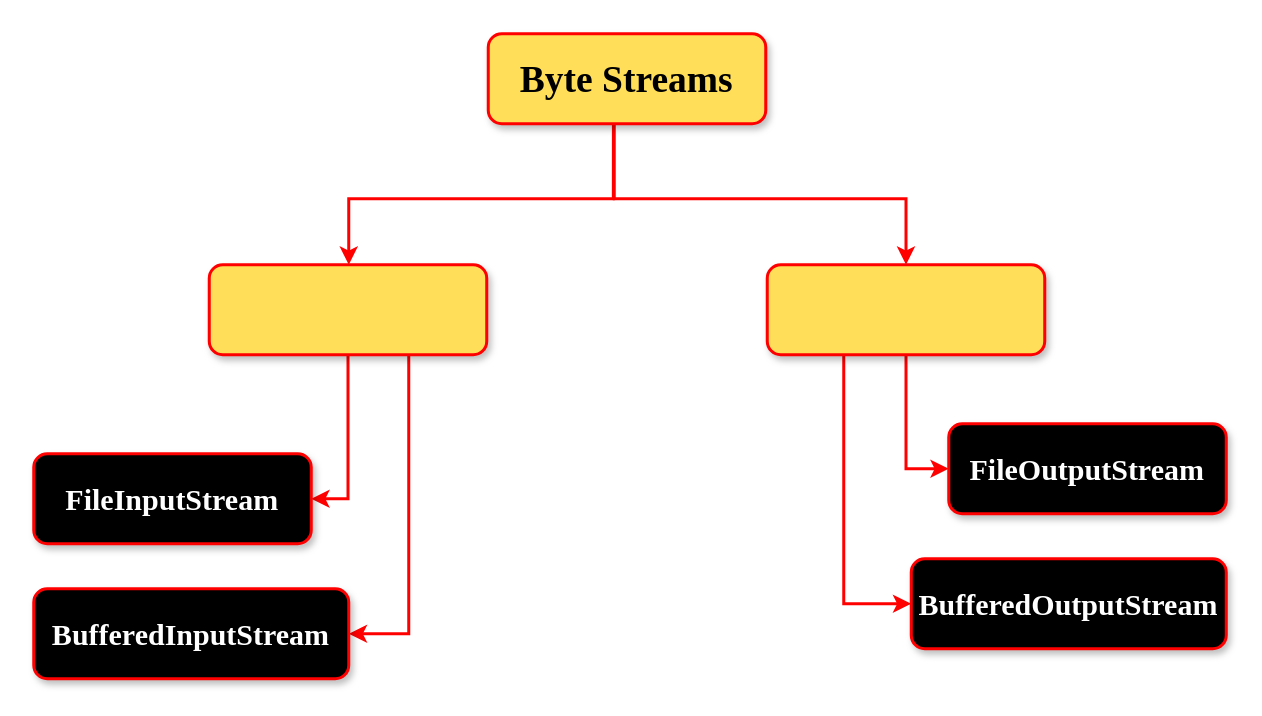
The diagram is 1262 pixels wide and 716 high, and some of its shapes have lost their labels. The centre of each missing label's shape, as x and y in pixels:
"InputStream" belongs at point (348, 311).
"OutputStream" belongs at point (906, 311).
